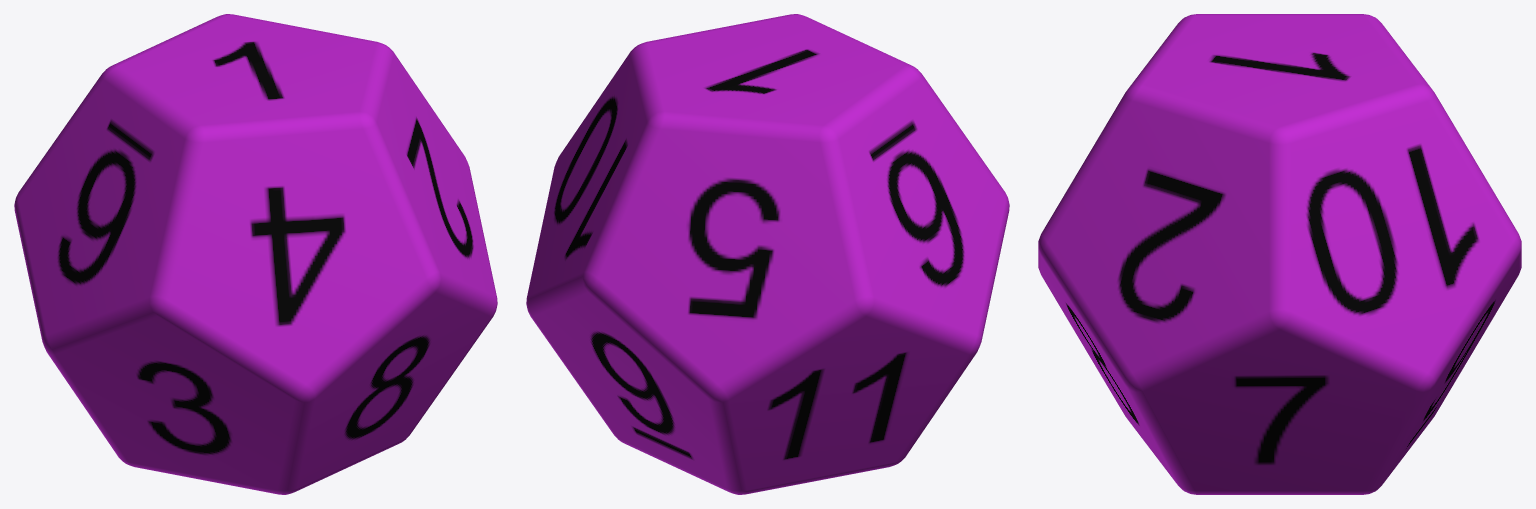
3 renders of one model, left to right at view 1: azimuth 30°, elevation 25°; view 2: azimuth 150°, elevation 25°; view 3: azimuth 270°, elevation 25°, orthographic. The views are drawn at different scales.
Visible parts, largest first — view 1: node_id6; view 2: node_id6; view 3: node_id6.
Boxes of the visible parts, box(x1,y1,x2,y2) form: node_id6: box(14, 14, 497, 494); node_id6: box(526, 14, 1009, 494); node_id6: box(1038, 14, 1521, 494).
Size of the model in its own units: 0.512 by 0.4235 by 0.4885.
Materials: 1 (1 with a texture image).
